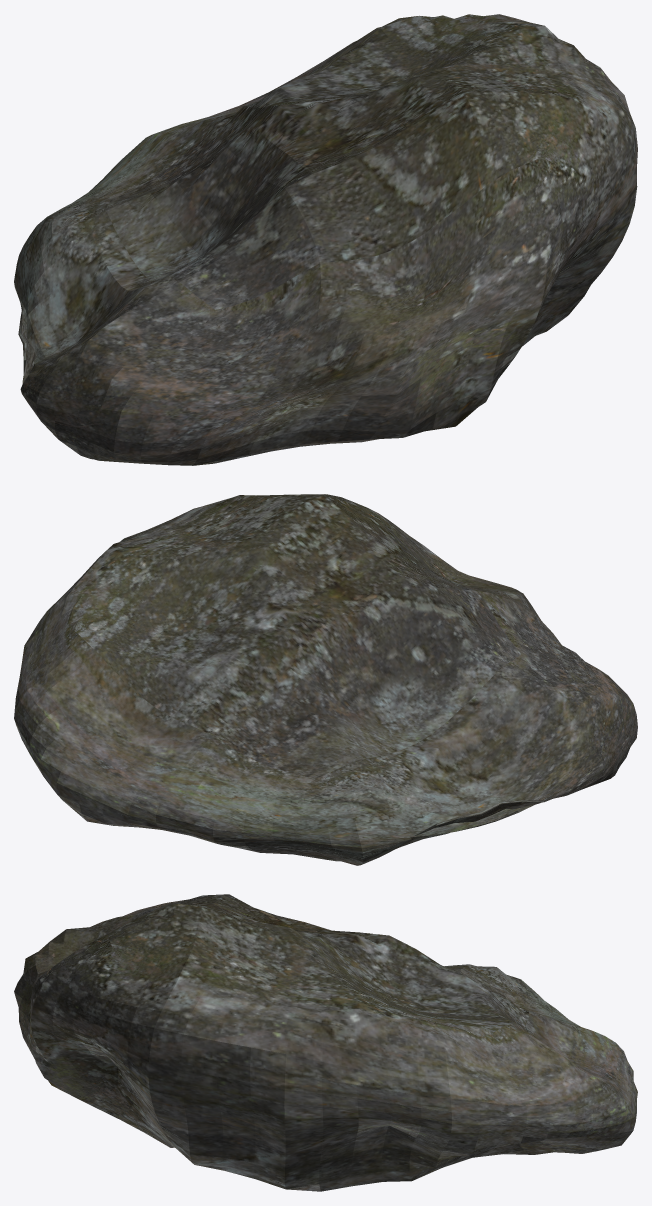
Rendered from fishesInSeaScene.obj.
The picture shows the model from 3 angles, top to bottom: view 1: azimuth 30°, elevation 25°; view 2: azimuth 150°, elevation 25°; view 3: azimuth 270°, elevation 25°; orthographic projection. The views are drawn at different scales.
Parts seen in each view (by area): view 1: Cube.001; view 2: Cube.001; view 3: Cube.001.
Boxes of the visible parts, x1,y1,x2,y2 form: Cube.001: [14, 14, 637, 465]; Cube.001: [14, 494, 637, 865]; Cube.001: [14, 894, 637, 1191].
Size of the model in its own units: 0.9581 by 0.4328 by 0.9475.
1 material, 1 textured.
